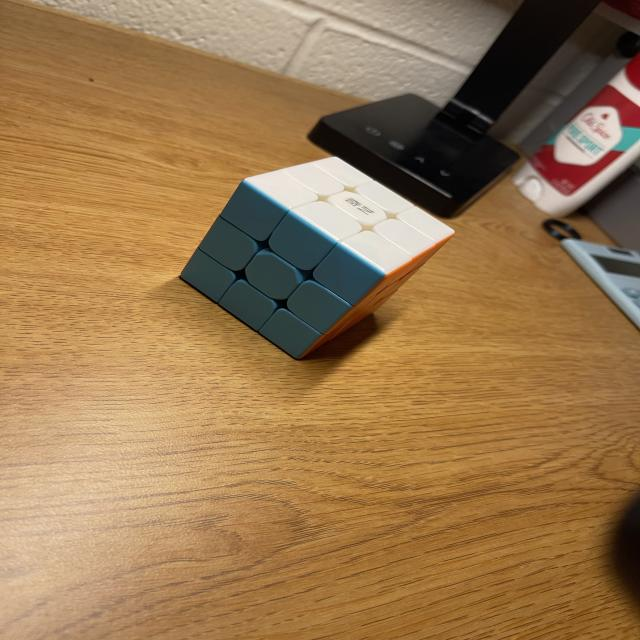Rubiks Cube: (179, 156, 456, 359)
